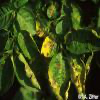Potato leaf early blight: (16, 49, 43, 93), (49, 52, 71, 99), (69, 55, 89, 99), (16, 29, 42, 61), (15, 7, 38, 37), (40, 35, 60, 58), (35, 17, 49, 37), (47, 3, 61, 19)
